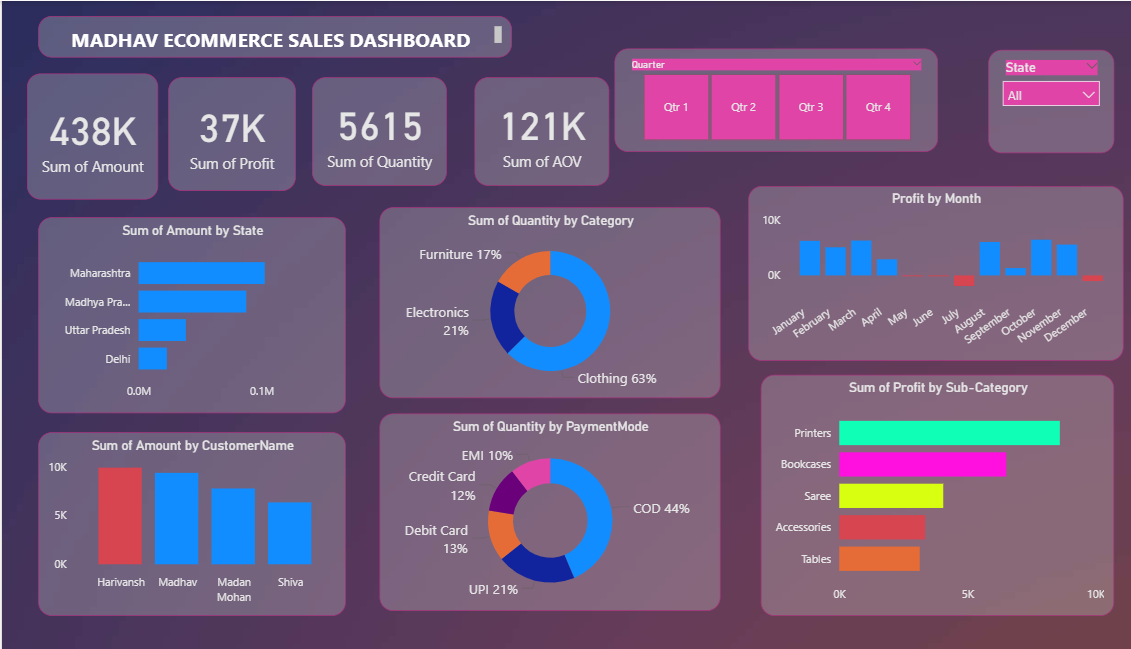

What the dashboard file says about the page in this screenshot:
{"tool":"powerbi","page":{"name":"Page 1","canvas":[1280,720],"ordinal":0},"visuals":[{"type":"textbox","box":[39.8,16.5,520.1,45.3],"z":0},{"type":"columnChart","title":"Profit by Month","fields":{"Y":["Sum(Details.Profit)"],"Category":["Orders.Order Date.Variation.Date Hierarchy.Month"]},"box":[819.2,203.1,411.7,192.1],"z":1000},{"type":"barChart","fields":{"Category":["Details.Sub-Category"],"Y":["Sum(Details.Profit)"]},"box":[832.9,410.3,388.3,264.8],"z":2000},{"type":"donutChart","fields":{"Y":["Sum(Details.Quantity)"],"Category":["Details.PaymentMode"]},"box":[414.4,452.8,374.6,216.8],"z":3000},{"type":"donutChart","fields":{"Category":["Details.Category"],"Y":["Sum(Details.Quantity)"]},"box":[414.4,226.4,374.6,209.9],"z":4000},{"type":"card","fields":{"Values":["Sum(Details.Amount)"]},"box":[27.4,79.6,144.1,138.6],"z":5000},{"type":"card","fields":{"Values":["Sum(Details.Quantity)"]},"box":[340.3,83.7,148.2,119.4],"z":6000},{"type":"card","fields":{"Values":["Sum(Details.Profit)"]},"box":[182.5,83.7,140,124.9],"z":7000},{"type":"card","fields":{"Values":["Sum(Details.AOV)"]},"box":[518.7,83.7,148.2,119.4],"z":8000},{"type":"barChart","fields":{"Category":["Orders.State"],"Y":["Sum(Details.Amount)"]},"box":[39.8,237.4,337.6,215.4],"z":9000},{"type":"columnChart","fields":{"Category":["Orders.CustomerName"],"Y":["Sum(Details.Amount)"]},"box":[39.8,473.4,337.6,201.7],"z":10000},{"type":"slicer","fields":{"Values":["Orders.Order Date.Variation.Date Hierarchy.Quarter"]},"box":[672.4,52.1,355.4,113.9],"z":11000},{"type":"slicer","fields":{"Values":["Orders.State"]},"box":[1082.7,53.5,138.6,113.9],"z":12000}]}

Visuals, with their boxes in screenshot pixels (x1, y1, x2, y2), scaled from the page's 1280x720 canvas onto the 1131x649 screenshot:
textbox: (35, 15, 495, 56)
"Profit by Month" columnChart: (724, 183, 1088, 356)
barChart - Details.Sub-Category x Sum(Details.Profit): (736, 370, 1079, 609)
donutChart - Sum(Details.Quantity) x Details.PaymentMode: (366, 408, 697, 604)
donutChart - Details.Category x Sum(Details.Quantity): (366, 204, 697, 393)
card - Sum(Details.Amount): (24, 72, 152, 197)
card - Sum(Details.Quantity): (301, 75, 432, 183)
card - Sum(Details.Profit): (161, 75, 285, 188)
card - Sum(Details.AOV): (458, 75, 589, 183)
barChart - Orders.State x Sum(Details.Amount): (35, 214, 333, 408)
columnChart - Orders.CustomerName x Sum(Details.Amount): (35, 427, 333, 609)
slicer - Orders.Order Date.Variation.Date Hierarchy.Quarter: (594, 47, 908, 150)
slicer - Orders.State: (957, 48, 1079, 151)
